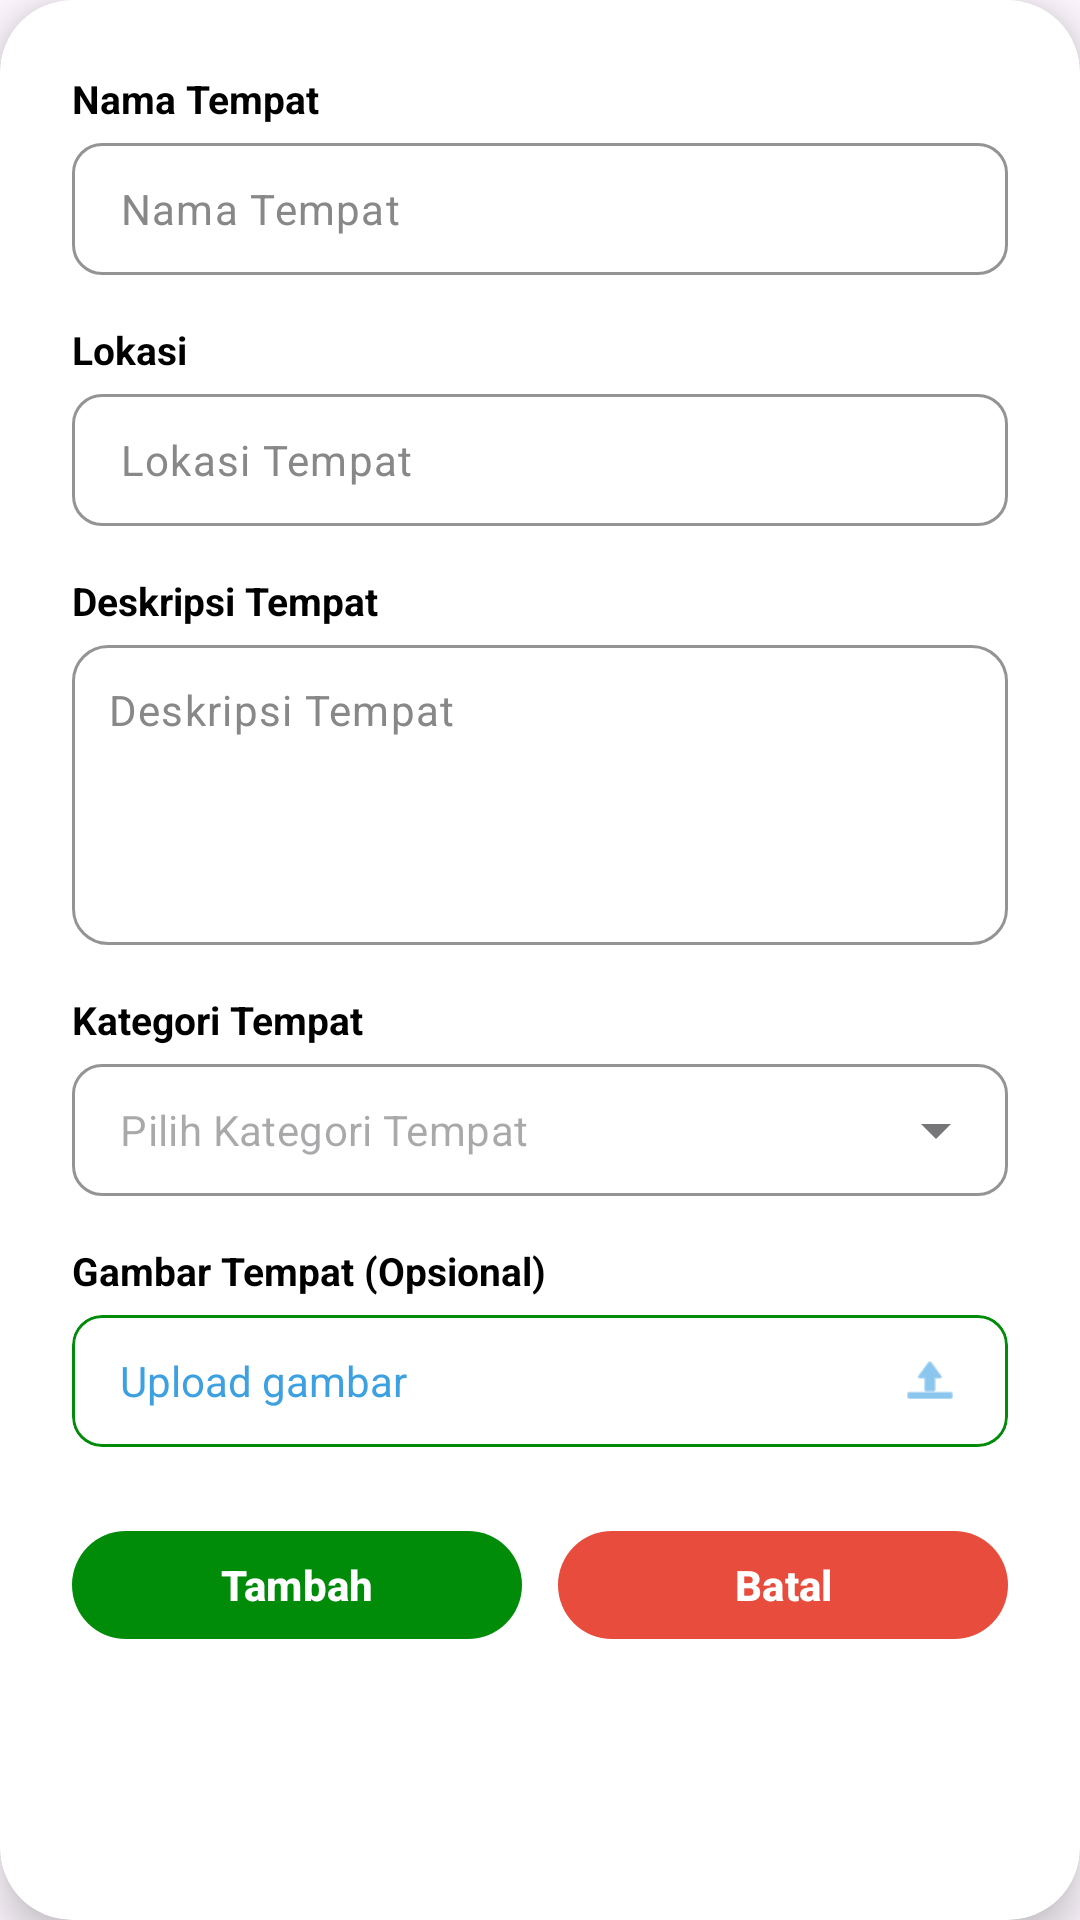

Where to tap for icons on this 1080px×1920px app screen, as point (x, y):
upload: point (930, 1380)
